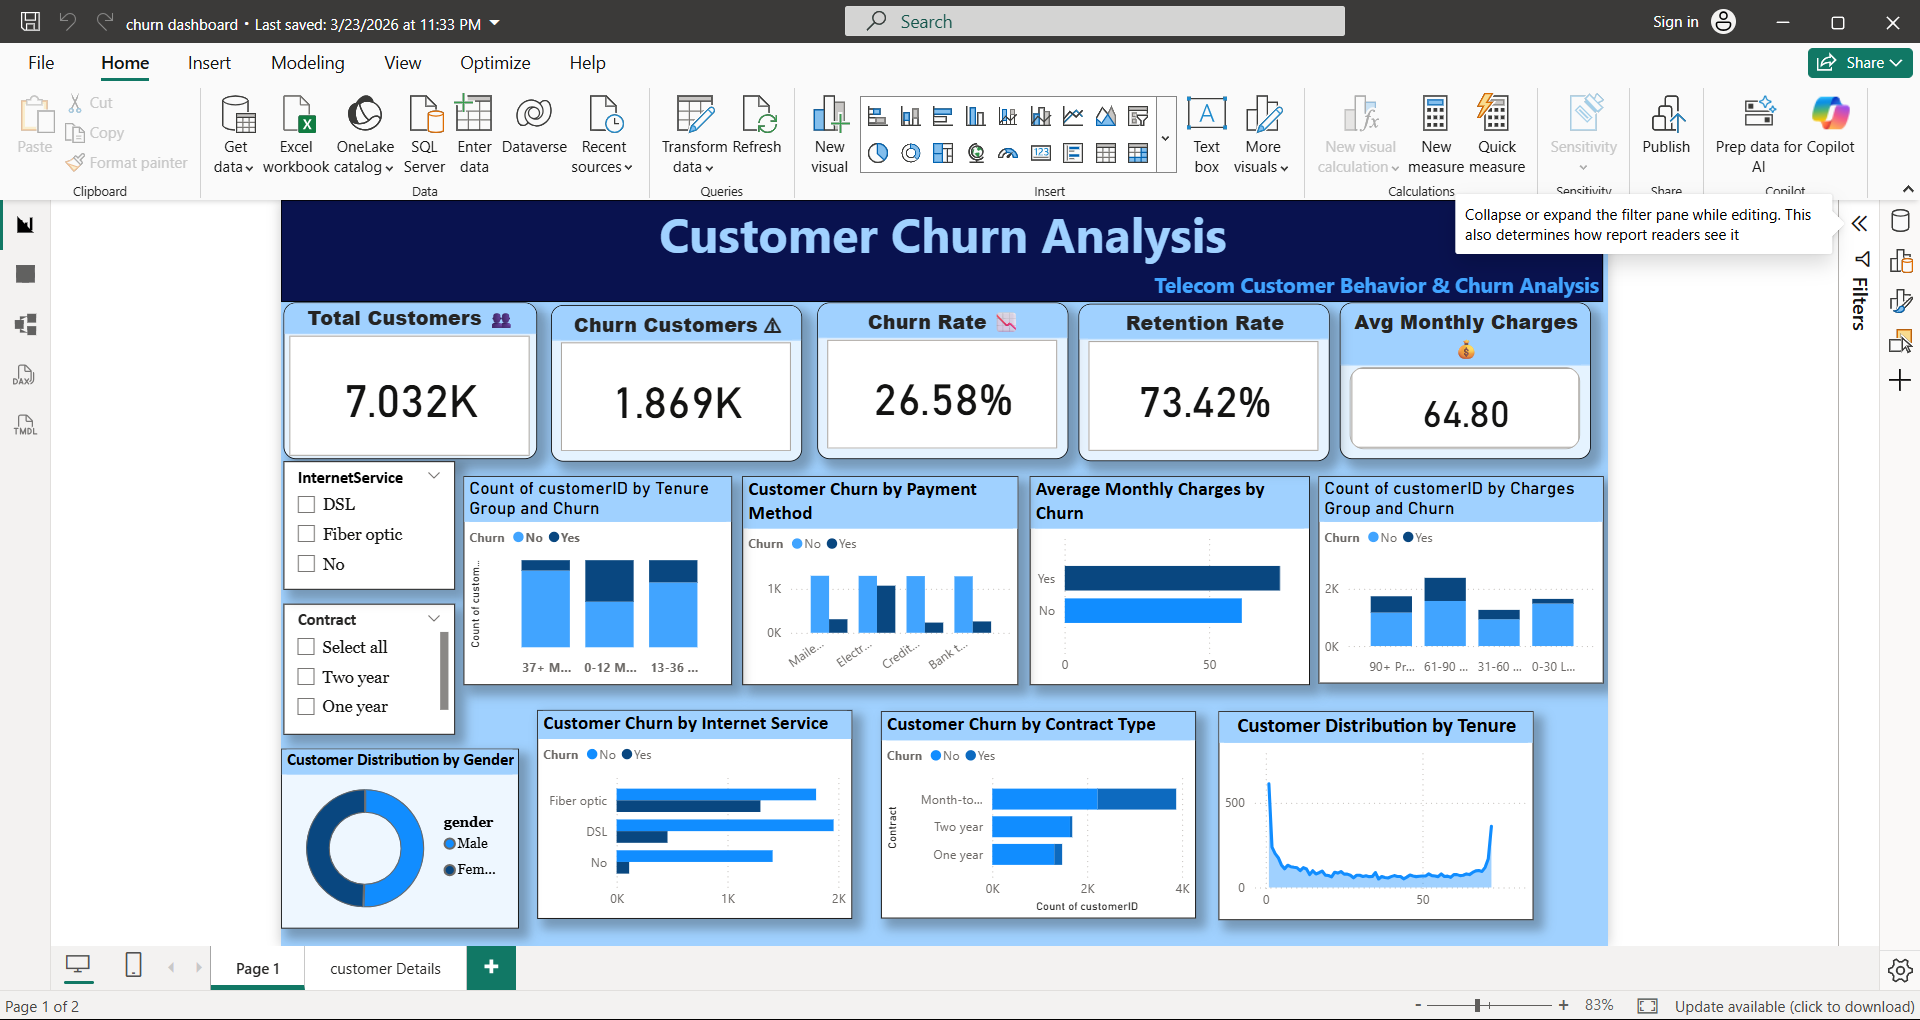

This screenshot's page, from the dashboard's own definition file:
{"tool":"powerbi","page":{"name":"Page 1","canvas":[1280,720],"ordinal":0},"visuals":[{"type":"cardVisual","title":"Total Customers 👥 ","fields":{"Data":["CountNonNull(churn_cleaned.customerID)"]},"box":[2.4,98.9,244.9,150.8],"z":0},{"type":"cardVisual","title":"Churn Customers ⚠","fields":{"Data":["Count(churn_cleaned.customerID)"]},"box":[260.6,101.3,242.5,150.8],"z":1000},{"type":"cardVisual","title":"Churn Rate 📉","fields":{"Data":["churn_cleaned.Churn Rate"]},"box":[517.6,98.9,242.5,150.8],"z":2000},{"type":"barChart","title":"Customer Churn by Contract Type","fields":{"Series":["churn_cleaned.Churn"],"Y":["CountNonNull(churn_cleaned.customerID)"],"Category":["churn_cleaned.Contract"]},"box":[579.1,493.4,304,200.3],"z":3000},{"type":"clusteredBarChart","title":"Customer Churn by Internet Service","fields":{"Category":["churn_cleaned.InternetService"],"Series":["churn_cleaned.Churn"],"Y":["CountNonNull(churn_cleaned.customerID)"]},"box":[247.3,492.2,304,201.5],"z":4000},{"type":"barChart","title":"Average Monthly Charges by Churn","fields":{"Category":["churn_cleaned.Churn"],"Y":["Avg(churn_cleaned.MonthlyCharges)"]},"box":[722.7,266.6,270.2,201.5],"z":5000},{"type":"slicer","fields":{"Values":["churn_cleaned.Contract"]},"box":[2.4,389.7,165.3,126.7],"z":6000},{"type":"slicer","fields":{"Values":["churn_cleaned.InternetService"]},"box":[2.4,252.1,165.3,124.3],"z":7000},{"type":"textbox","title":"Customer Churn Analysis","box":[0,0,1276.2,98.8],"z":8000},{"type":"cardVisual","title":"Avg Monthly Charges 💰","fields":{"Data":["Avg(churn_cleaned.MonthlyCharges)"]},"box":[1021.9,98.9,242.5,150.8],"z":9000},{"type":"areaChart","title":"Customer Distribution by Tenure","fields":{"Category":["churn_cleaned.tenure"],"Y":["CountNonNull(churn_cleaned.customerID)"]},"box":[904.8,493.4,304,201.5],"z":10000},{"type":"clusteredColumnChart","title":"Customer Churn by Payment Method","fields":{"Category":["churn_cleaned.PaymentMethod"],"Y":["CountNonNull(churn_cleaned.customerID)"],"Series":["churn_cleaned.Churn"]},"box":[445.2,266.6,266.6,201.5],"z":11000},{"type":"donutChart","title":"Customer Distribution by Gender","fields":{"Category":["churn_cleaned.gender"],"Y":["CountNonNull(churn_cleaned.customerID)"]},"box":[0,529.6,229.2,173.7],"z":12000},{"type":"columnChart","fields":{"Category":["churn_cleaned.Charges Group"],"Series":["churn_cleaned.Churn"],"Y":["CountNonNull(churn_cleaned.customerID)"]},"box":[1001.3,266.6,275.1,200.3],"z":14000},{"type":"cardVisual","title":"Retention Rate","fields":{"Data":["churn_cleaned.Retention Rate"]},"box":[769.7,100.1,242.5,152],"z":15000},{"type":"hundredPercentStackedColumnChart","fields":{"Category":["churn_cleaned.Tenure Group"],"Y":["CountNonNull(churn_cleaned.customerID)"],"Series":["churn_cleaned.Churn"]},"box":[176.1,266.6,259.4,201.5],"z":16000}]}

Visuals, with their boxes on the page's 1280x720 design canvas (x1, y1, x2, y2). These are canvas units, not pixel positions in the 1920x1020 screenshot, which may show the page scaled, cropped or inside an application window:
"Total Customers 👥 " cardVisual: bbox=(2, 99, 247, 250)
"Churn Customers ⚠" cardVisual: bbox=(261, 101, 503, 252)
"Churn Rate 📉" cardVisual: bbox=(518, 99, 760, 250)
"Customer Churn by Contract Type" barChart: bbox=(579, 493, 883, 694)
"Customer Churn by Internet Service" clusteredBarChart: bbox=(247, 492, 551, 694)
"Average Monthly Charges by Churn" barChart: bbox=(723, 267, 993, 468)
slicer - churn_cleaned.Contract: bbox=(2, 390, 168, 516)
slicer - churn_cleaned.InternetService: bbox=(2, 252, 168, 376)
"Customer Churn Analysis" textbox: bbox=(0, 0, 1276, 99)
"Avg Monthly Charges 💰" cardVisual: bbox=(1022, 99, 1264, 250)
"Customer Distribution by Tenure" areaChart: bbox=(905, 493, 1209, 695)
"Customer Churn by Payment Method" clusteredColumnChart: bbox=(445, 267, 712, 468)
"Customer Distribution by Gender" donutChart: bbox=(0, 530, 229, 703)
columnChart - churn_cleaned.Charges Group x churn_cleaned.Churn: bbox=(1001, 267, 1276, 467)
"Retention Rate" cardVisual: bbox=(770, 100, 1012, 252)
hundredPercentStackedColumnChart - churn_cleaned.Tenure Group x CountNonNull(churn_cleaned.customerID): bbox=(176, 267, 436, 468)
